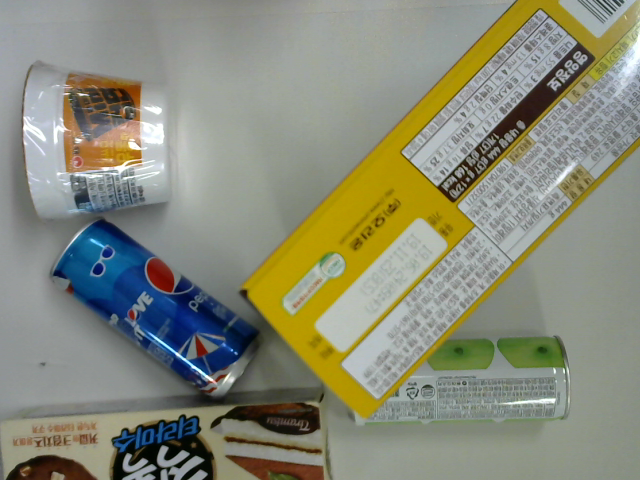Chicchok_Tiramisu: (1, 384, 335, 480)
Choco_Pie_Banana: (239, 1, 640, 423)
Demisoda_Apple_Can_250ml: (354, 333, 572, 426)
Pepsi_Cola_Can_250ml: (49, 217, 260, 401)
Udongmini: (21, 60, 173, 222)
